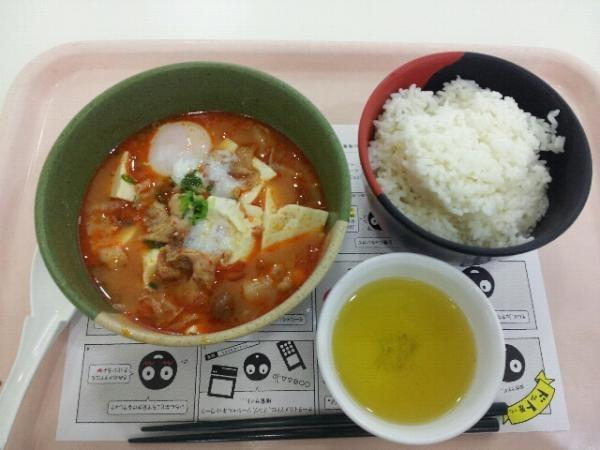rice: (370, 79, 562, 245)
